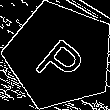P_NE: (28, 24, 91, 88)
